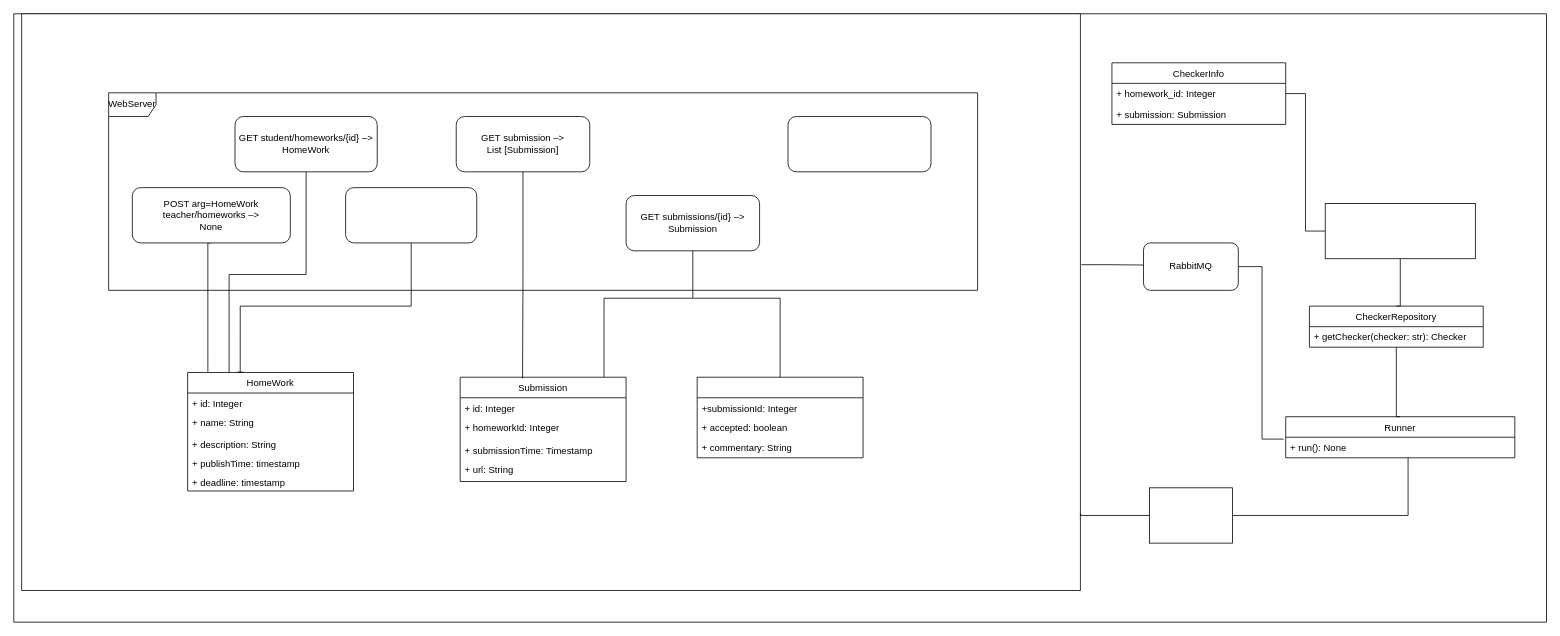
This 1560x636 diagram has some shape labels left out. The shapes that lost their labels are listed below. From the top down, each one's box as (x1, y1, x2, y2) in pixels, then its label:
(787, 116, 931, 172): POST student/homeworks/{id} –> None
(345, 187, 477, 243): GET homeworks –> List [HomeWorkId]
(1324, 203, 1475, 259): <<Interface>> Checker + check(info: CheckerInfo): None
(696, 376, 863, 458): SubmissionResult
(1149, 487, 1232, 543): DataBase
